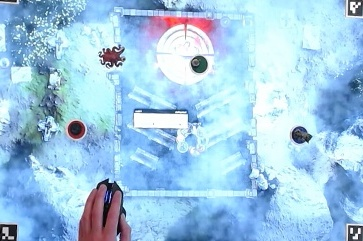blue: (290, 126, 313, 149)
giant_red_octopus: (100, 47, 123, 70)
green: (188, 54, 211, 77)
red: (64, 119, 86, 142)
